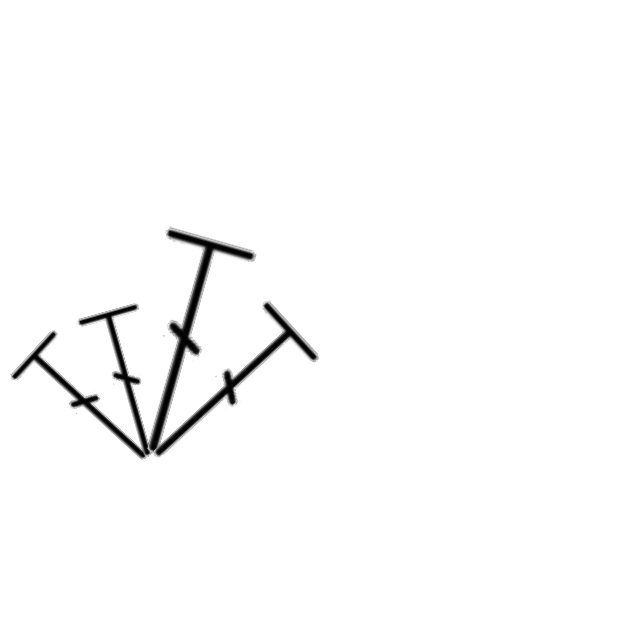double treble: (102, 218, 265, 475), (122, 293, 329, 492), (4, 322, 175, 487), (74, 296, 184, 470)
